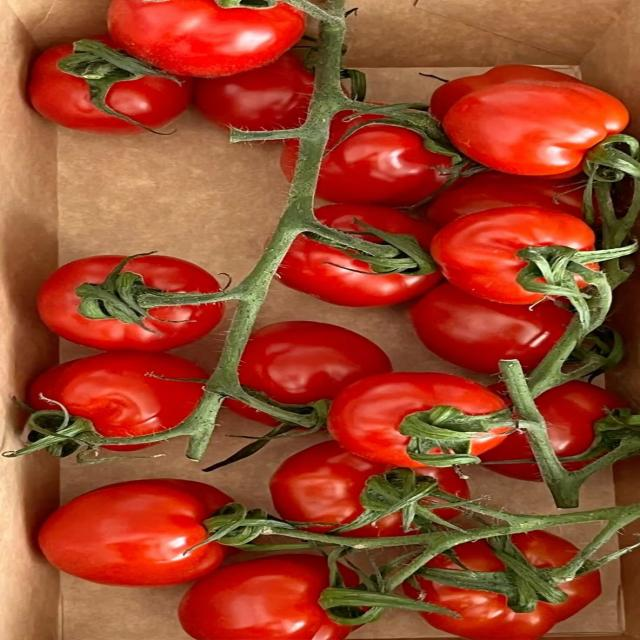tomato: (40, 480, 232, 586), (38, 256, 224, 351), (444, 82, 628, 175), (328, 373, 506, 467), (431, 207, 595, 304), (28, 352, 206, 437), (108, 0, 305, 76), (179, 555, 353, 639), (411, 283, 573, 373), (405, 572, 600, 639), (316, 111, 451, 206), (239, 321, 392, 404), (278, 236, 440, 306), (270, 441, 389, 532), (28, 44, 144, 134), (195, 53, 313, 130), (426, 172, 584, 227), (430, 65, 581, 121), (536, 381, 626, 457)
